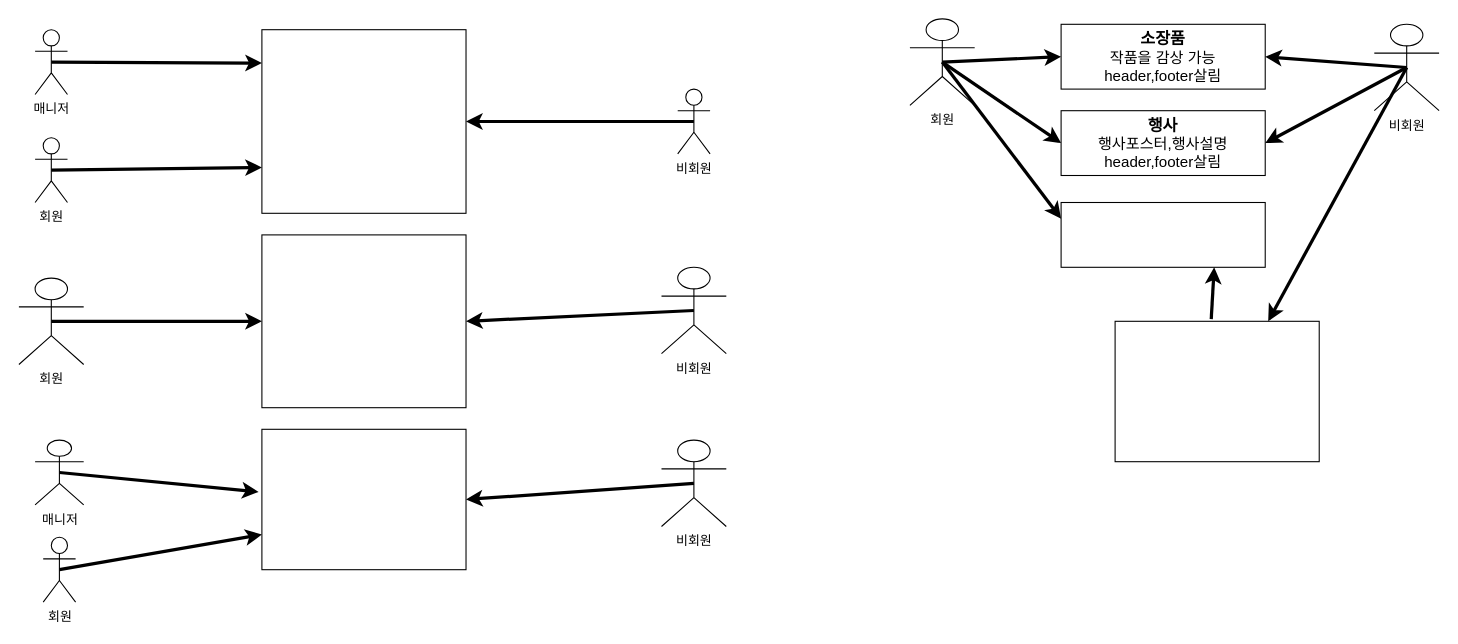
This 1458x644 diagram has some shape labels left out. The box of each missing label's shape, as (x1, y1, x2, y2) in pixels:
공지 header 메인화면과 동일 content 공지 게시판, 관리자만 쓰기 footer 메인화면과 동일: (261, 428, 466, 570)
굿즈 상품판매. 회원만 이용. header,footer살림: (1060, 201, 1265, 267)
로그인 header 메인화면과 동일 content 아이디 입력란,비번 입력란 로그인 실행 버튼 회원가입 버튼 footer 메인화면과 동일: (261, 234, 466, 408)
메인화면 header 메뉴,로그인,공지 nav 소장품, 행사, 쇼핑 content.1 일정급한 행사 광고 footer 소개,주소,연락처 등: (261, 29, 466, 213)
회원가입화면 header 메인화면과 동일 content 회원가입 정보 입력 footer 메인화면과 동일: (1114, 320, 1319, 462)
